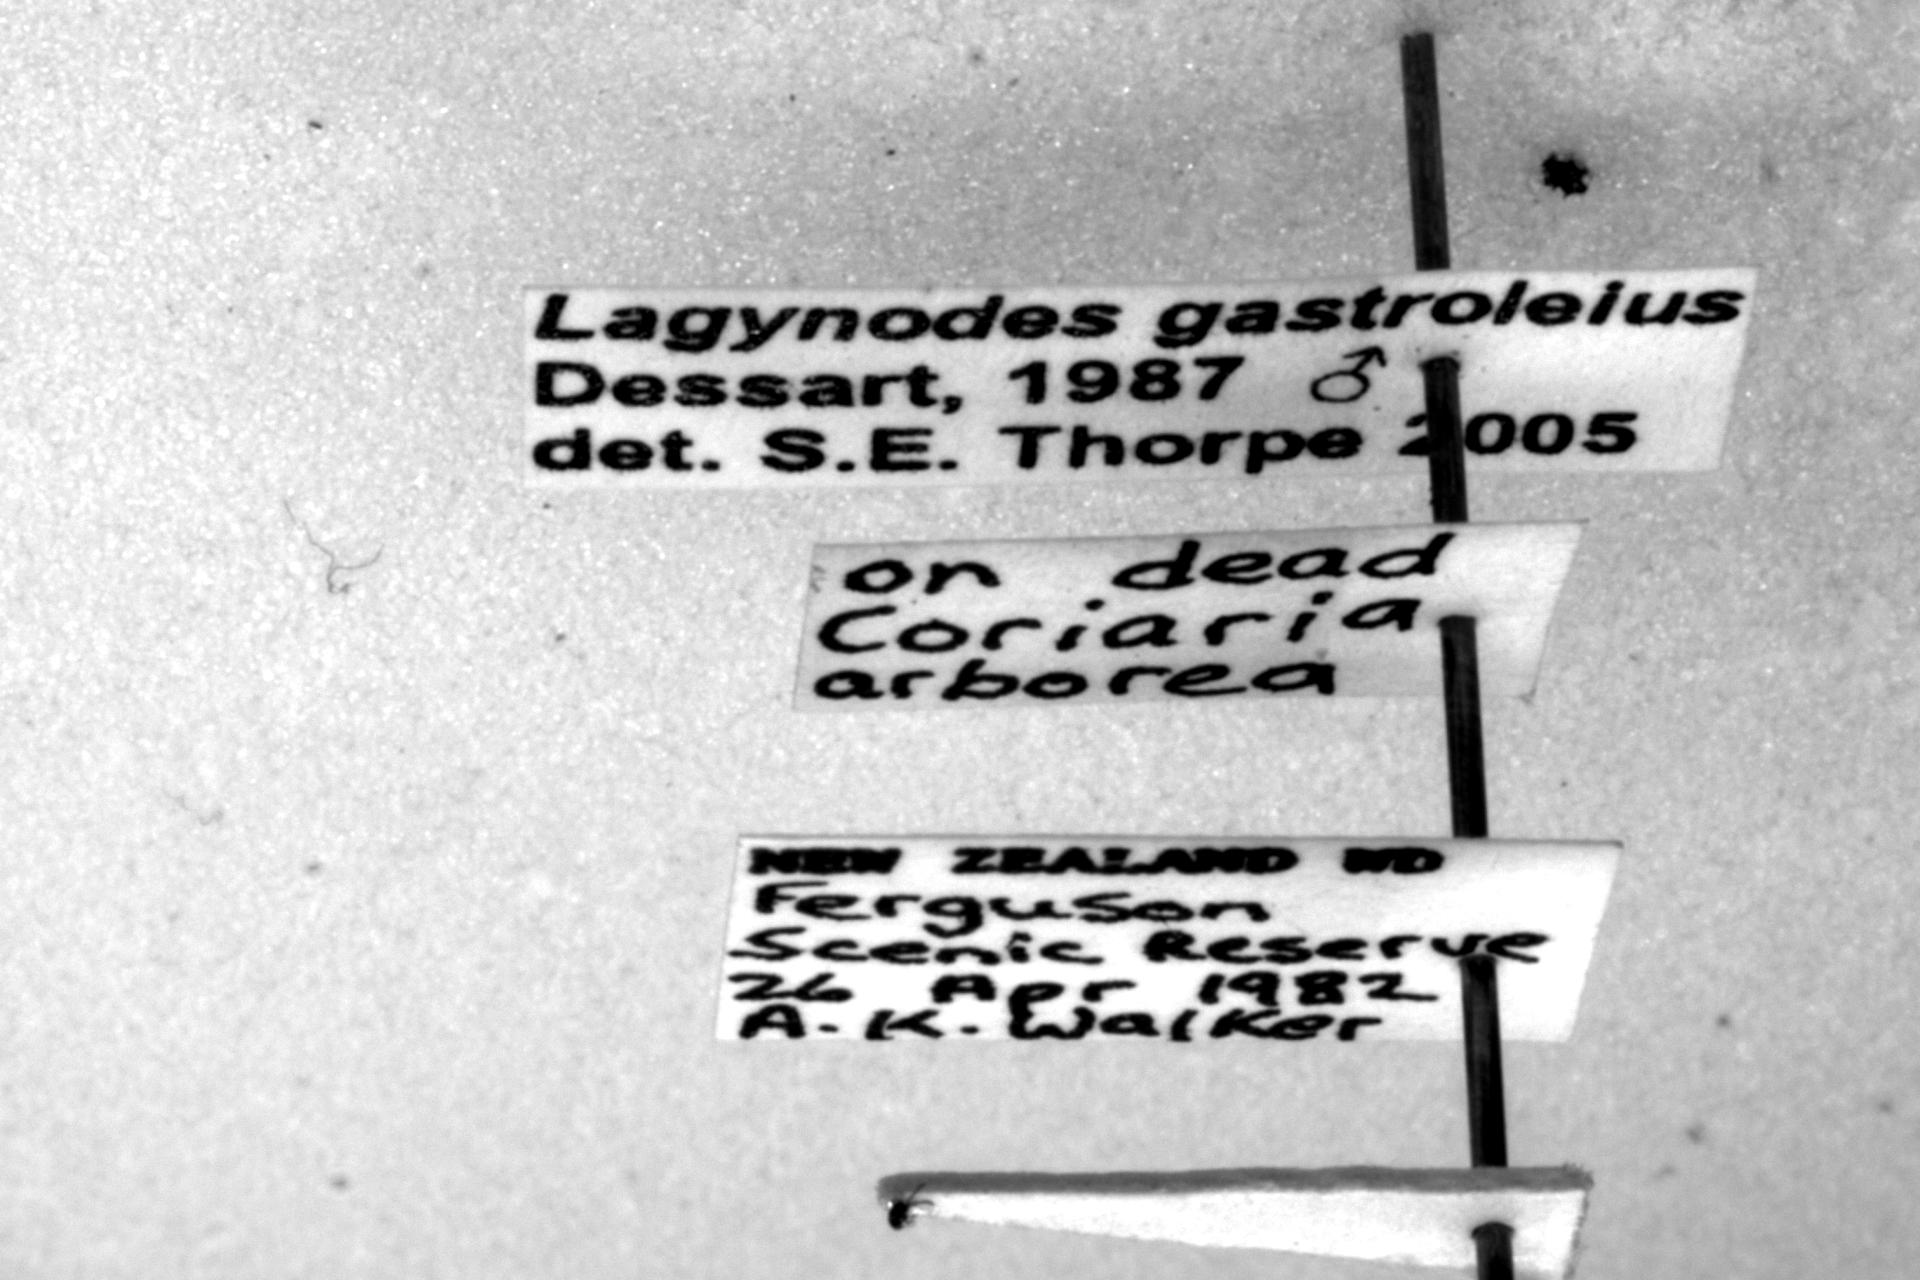hand_label: (794, 521, 1583, 709)
mixed_label: (714, 836, 1619, 1043)
typed_label: (526, 266, 1754, 487)
